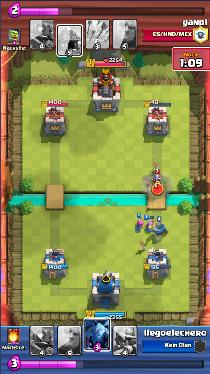ally_archer: (135, 220, 143, 231), (145, 221, 152, 232)
ally_knight: (148, 223, 169, 236)
enemy_musketeer: (152, 174, 161, 187)
